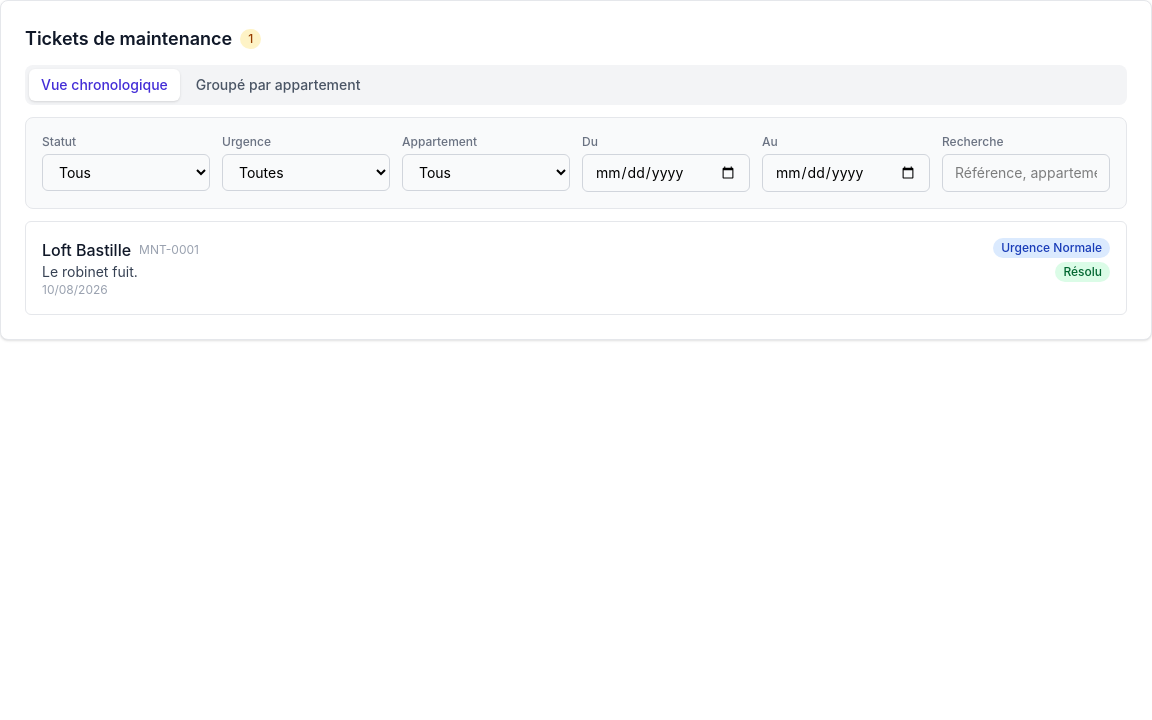
Test: TicketsMaintenanceSection › affiche un ticket résolu en lecture seule avec la photo après réparation et le coût
This screenshot has width=1152, height=720.
Click the text "Le robinet fuit." at (90, 272), box [42,263,138,280]
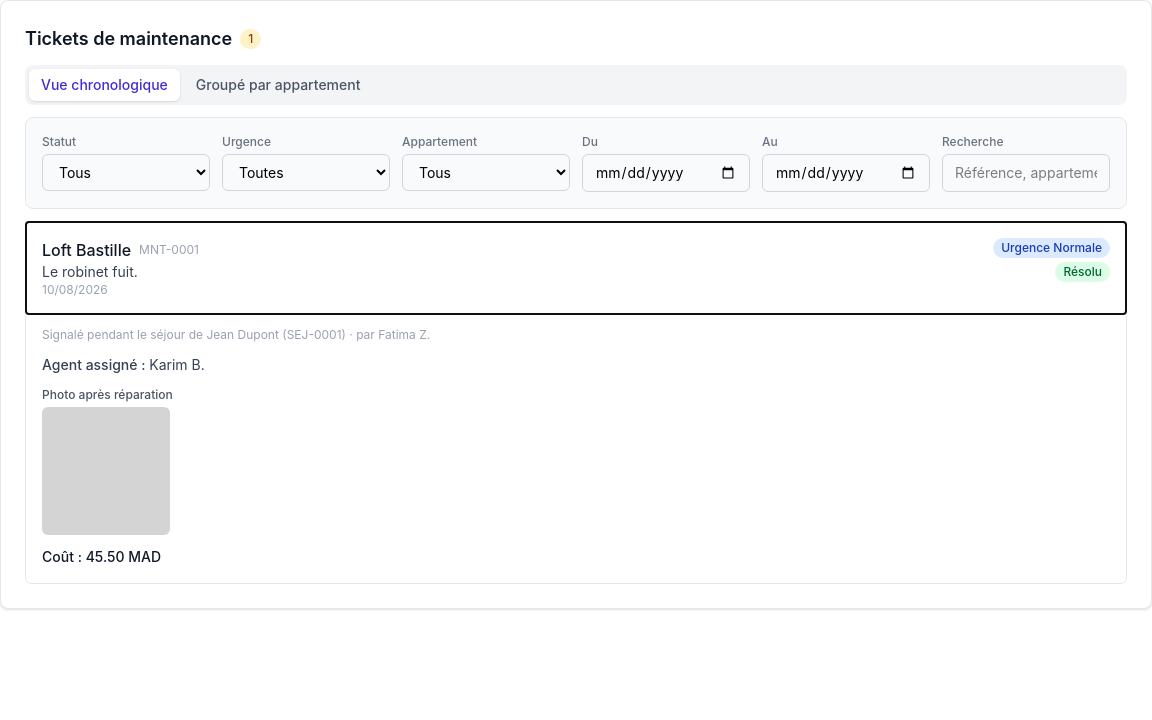
Expected: the text "Coût : 45.50 MAD" is shown, [42,548,161,565]
